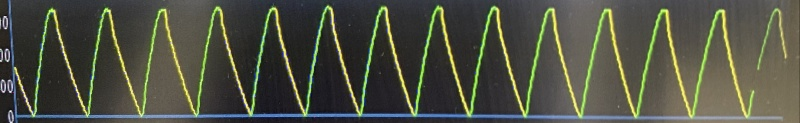normal_volume: (26, 0, 755, 123)
